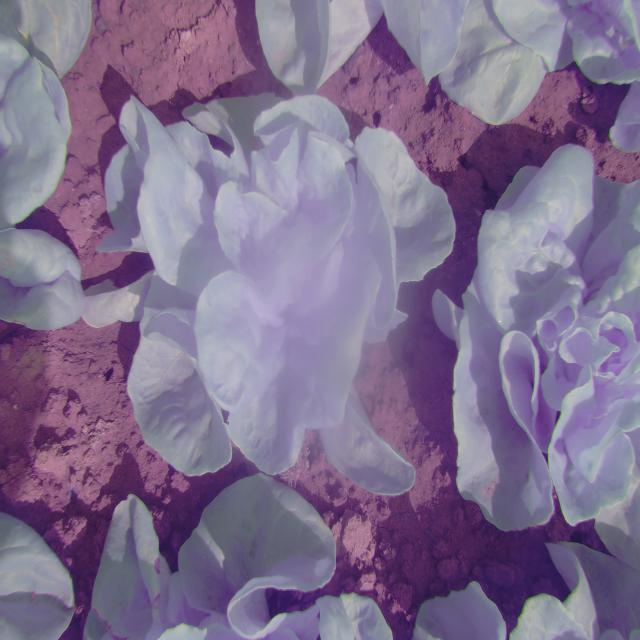vege: (87, 84, 454, 497)
